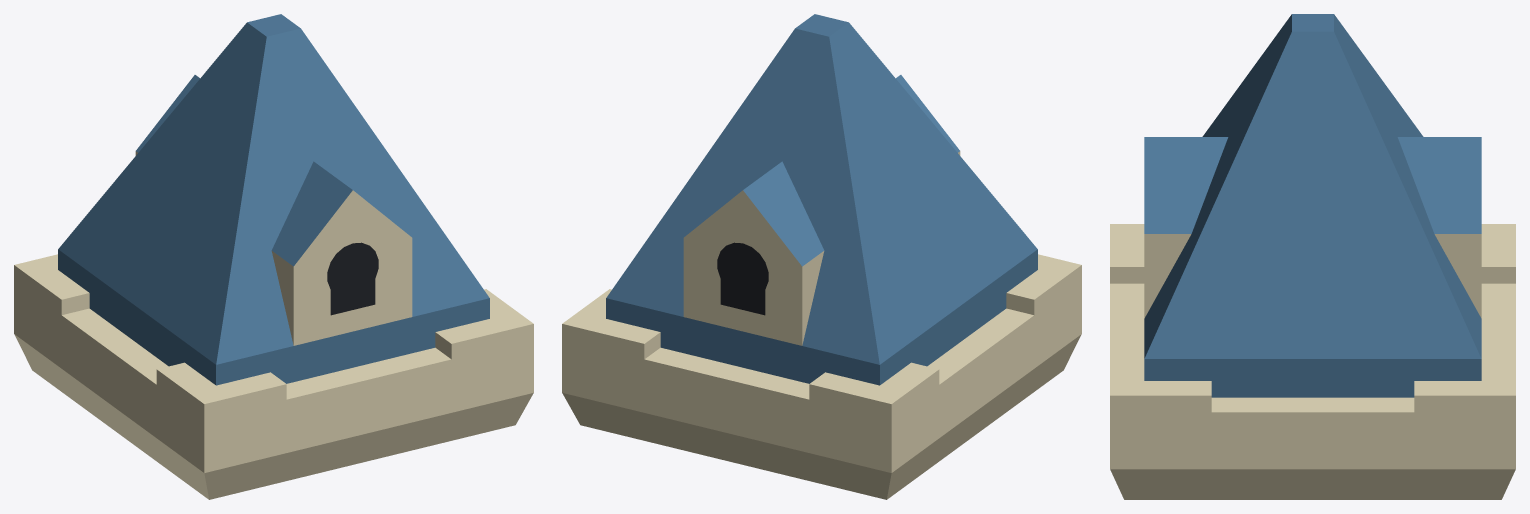
The model's file is towerSquareTopRoofHighWindows_exclusive.fbx.
The picture shows the model from 3 angles, left to right: view 1: azimuth 30°, elevation 25°; view 2: azimuth 150°, elevation 25°; view 3: azimuth 270°, elevation 25°; orthographic projection. The views are drawn at different scales.
Visible parts, largest first — view 1: towerSquareTopRoofHighWindows_exclusive; view 2: towerSquareTopRoofHighWindows_exclusive, Group 988; view 3: towerSquareTopRoofHighWindows_exclusive.
Part boxes in pixels (x1,y1,x2,y2): towerSquareTopRoofHighWindows_exclusive: (14,14,533,499); towerSquareTopRoofHighWindows_exclusive: (562,14,1081,499); Group 988: (717,242,768,315); towerSquareTopRoofHighWindows_exclusive: (1110,14,1515,499).
Size of the model in its own units: 10 by 10.8 by 10.
